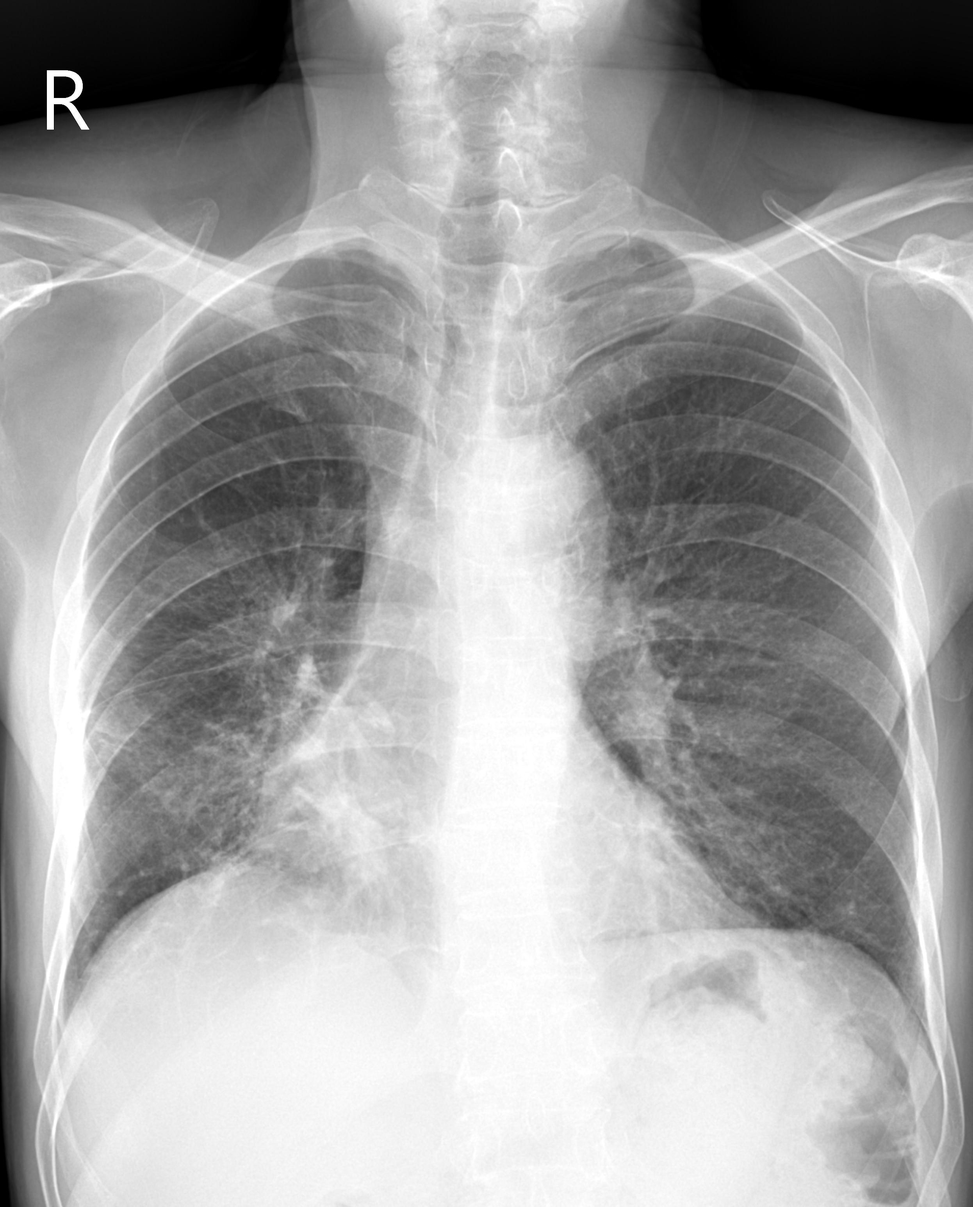Aortic enlargement: (473, 428, 611, 558)
Pleural thickening: (731, 264, 797, 324), (303, 238, 392, 260)
Pulmonary fibrosis: (89, 711, 395, 905)
